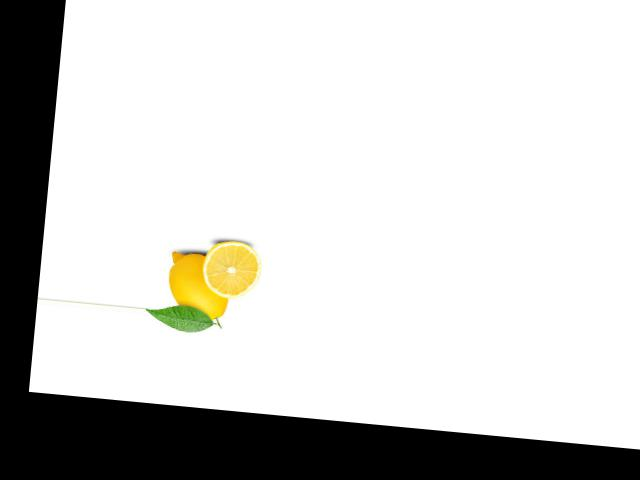lemon: (156, 245, 237, 332)
